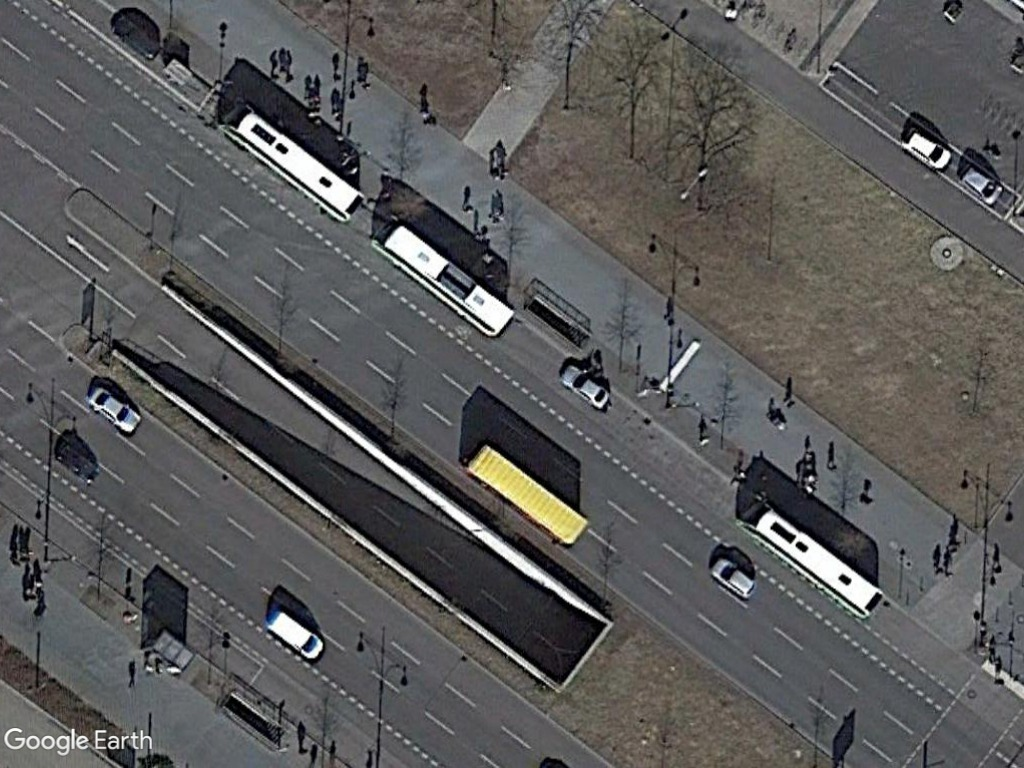bus: (370, 208, 520, 342), (216, 95, 368, 226), (736, 496, 889, 620)
car: (554, 356, 616, 413), (81, 381, 144, 435), (896, 119, 954, 172), (706, 551, 762, 601), (955, 159, 1008, 208)
longvehicle: (457, 437, 593, 550)
van: (260, 604, 328, 667)
